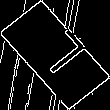L_SW: (24, 27, 86, 83)
